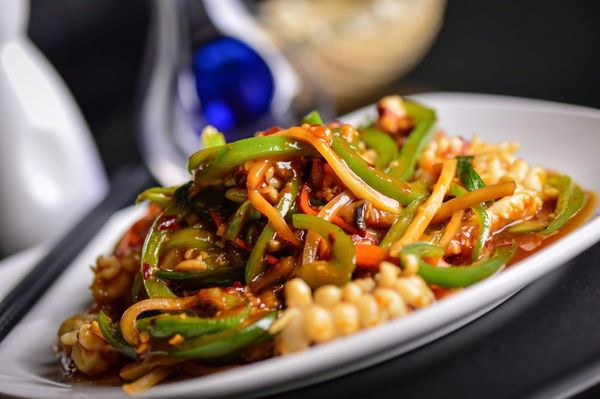curry: (456, 157, 486, 192)
sushi: (34, 84, 600, 393)
